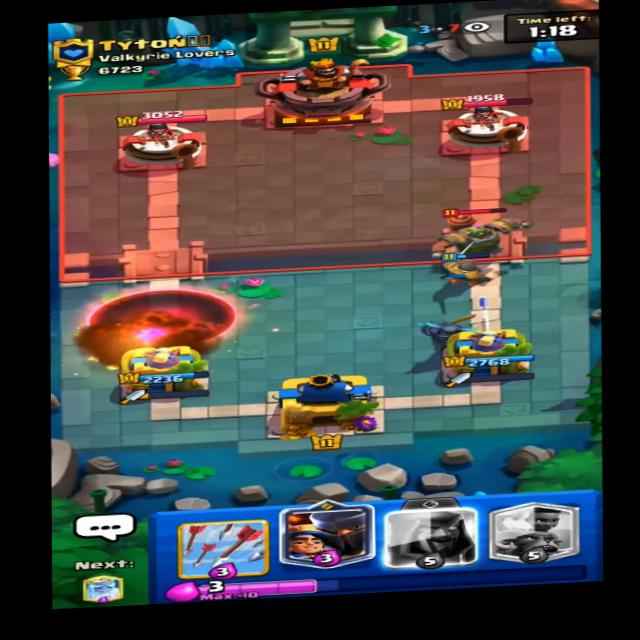goblin-machine: (422, 203, 532, 267)
